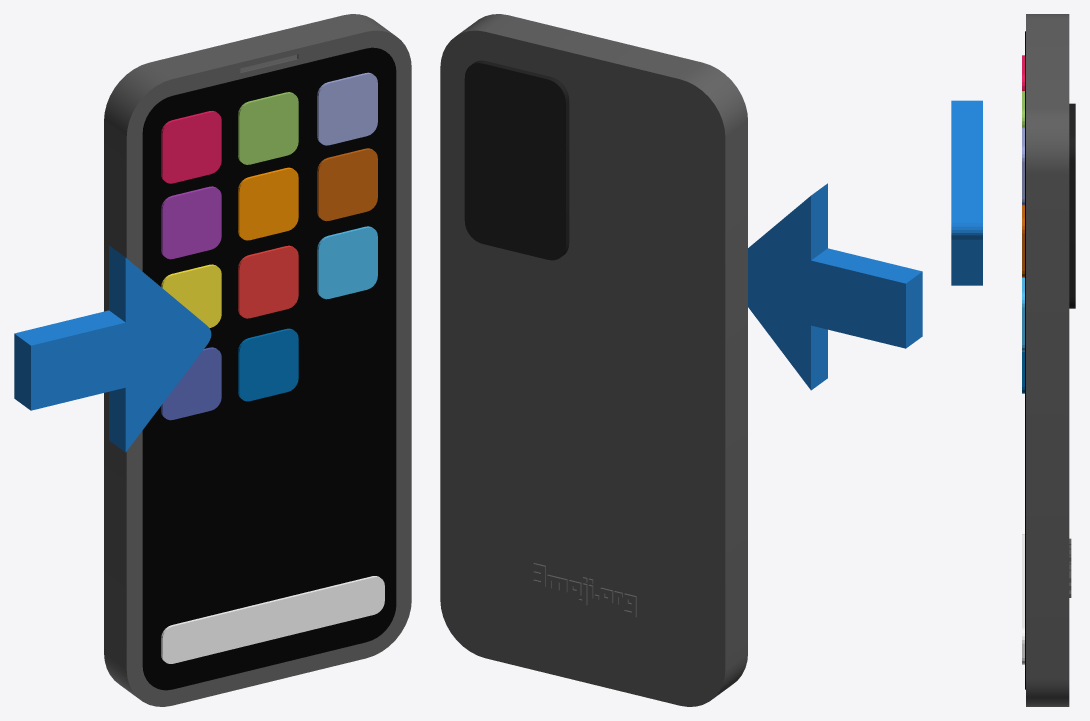
The model's file is mobile_phone_with_arrow.fbx.
3 renders of one model, left to right at view 1: azimuth 30°, elevation 25°; view 2: azimuth 150°, elevation 25°; view 3: azimuth 270°, elevation 25°, orthographic. The views are drawn at different scales.
Parts seen in each view (by area): view 1: Cube.917; view 2: Cube.917; view 3: Cube.917.
Boxes of the visible parts, box(x1,y1,x2,y2) form: Cube.917: box(14, 14, 411, 706); Cube.917: box(440, 14, 922, 706); Cube.917: box(951, 14, 1075, 706).
Size of the model in its own units: 180 by 257 by 48.68.
1 material, 1 textured.
